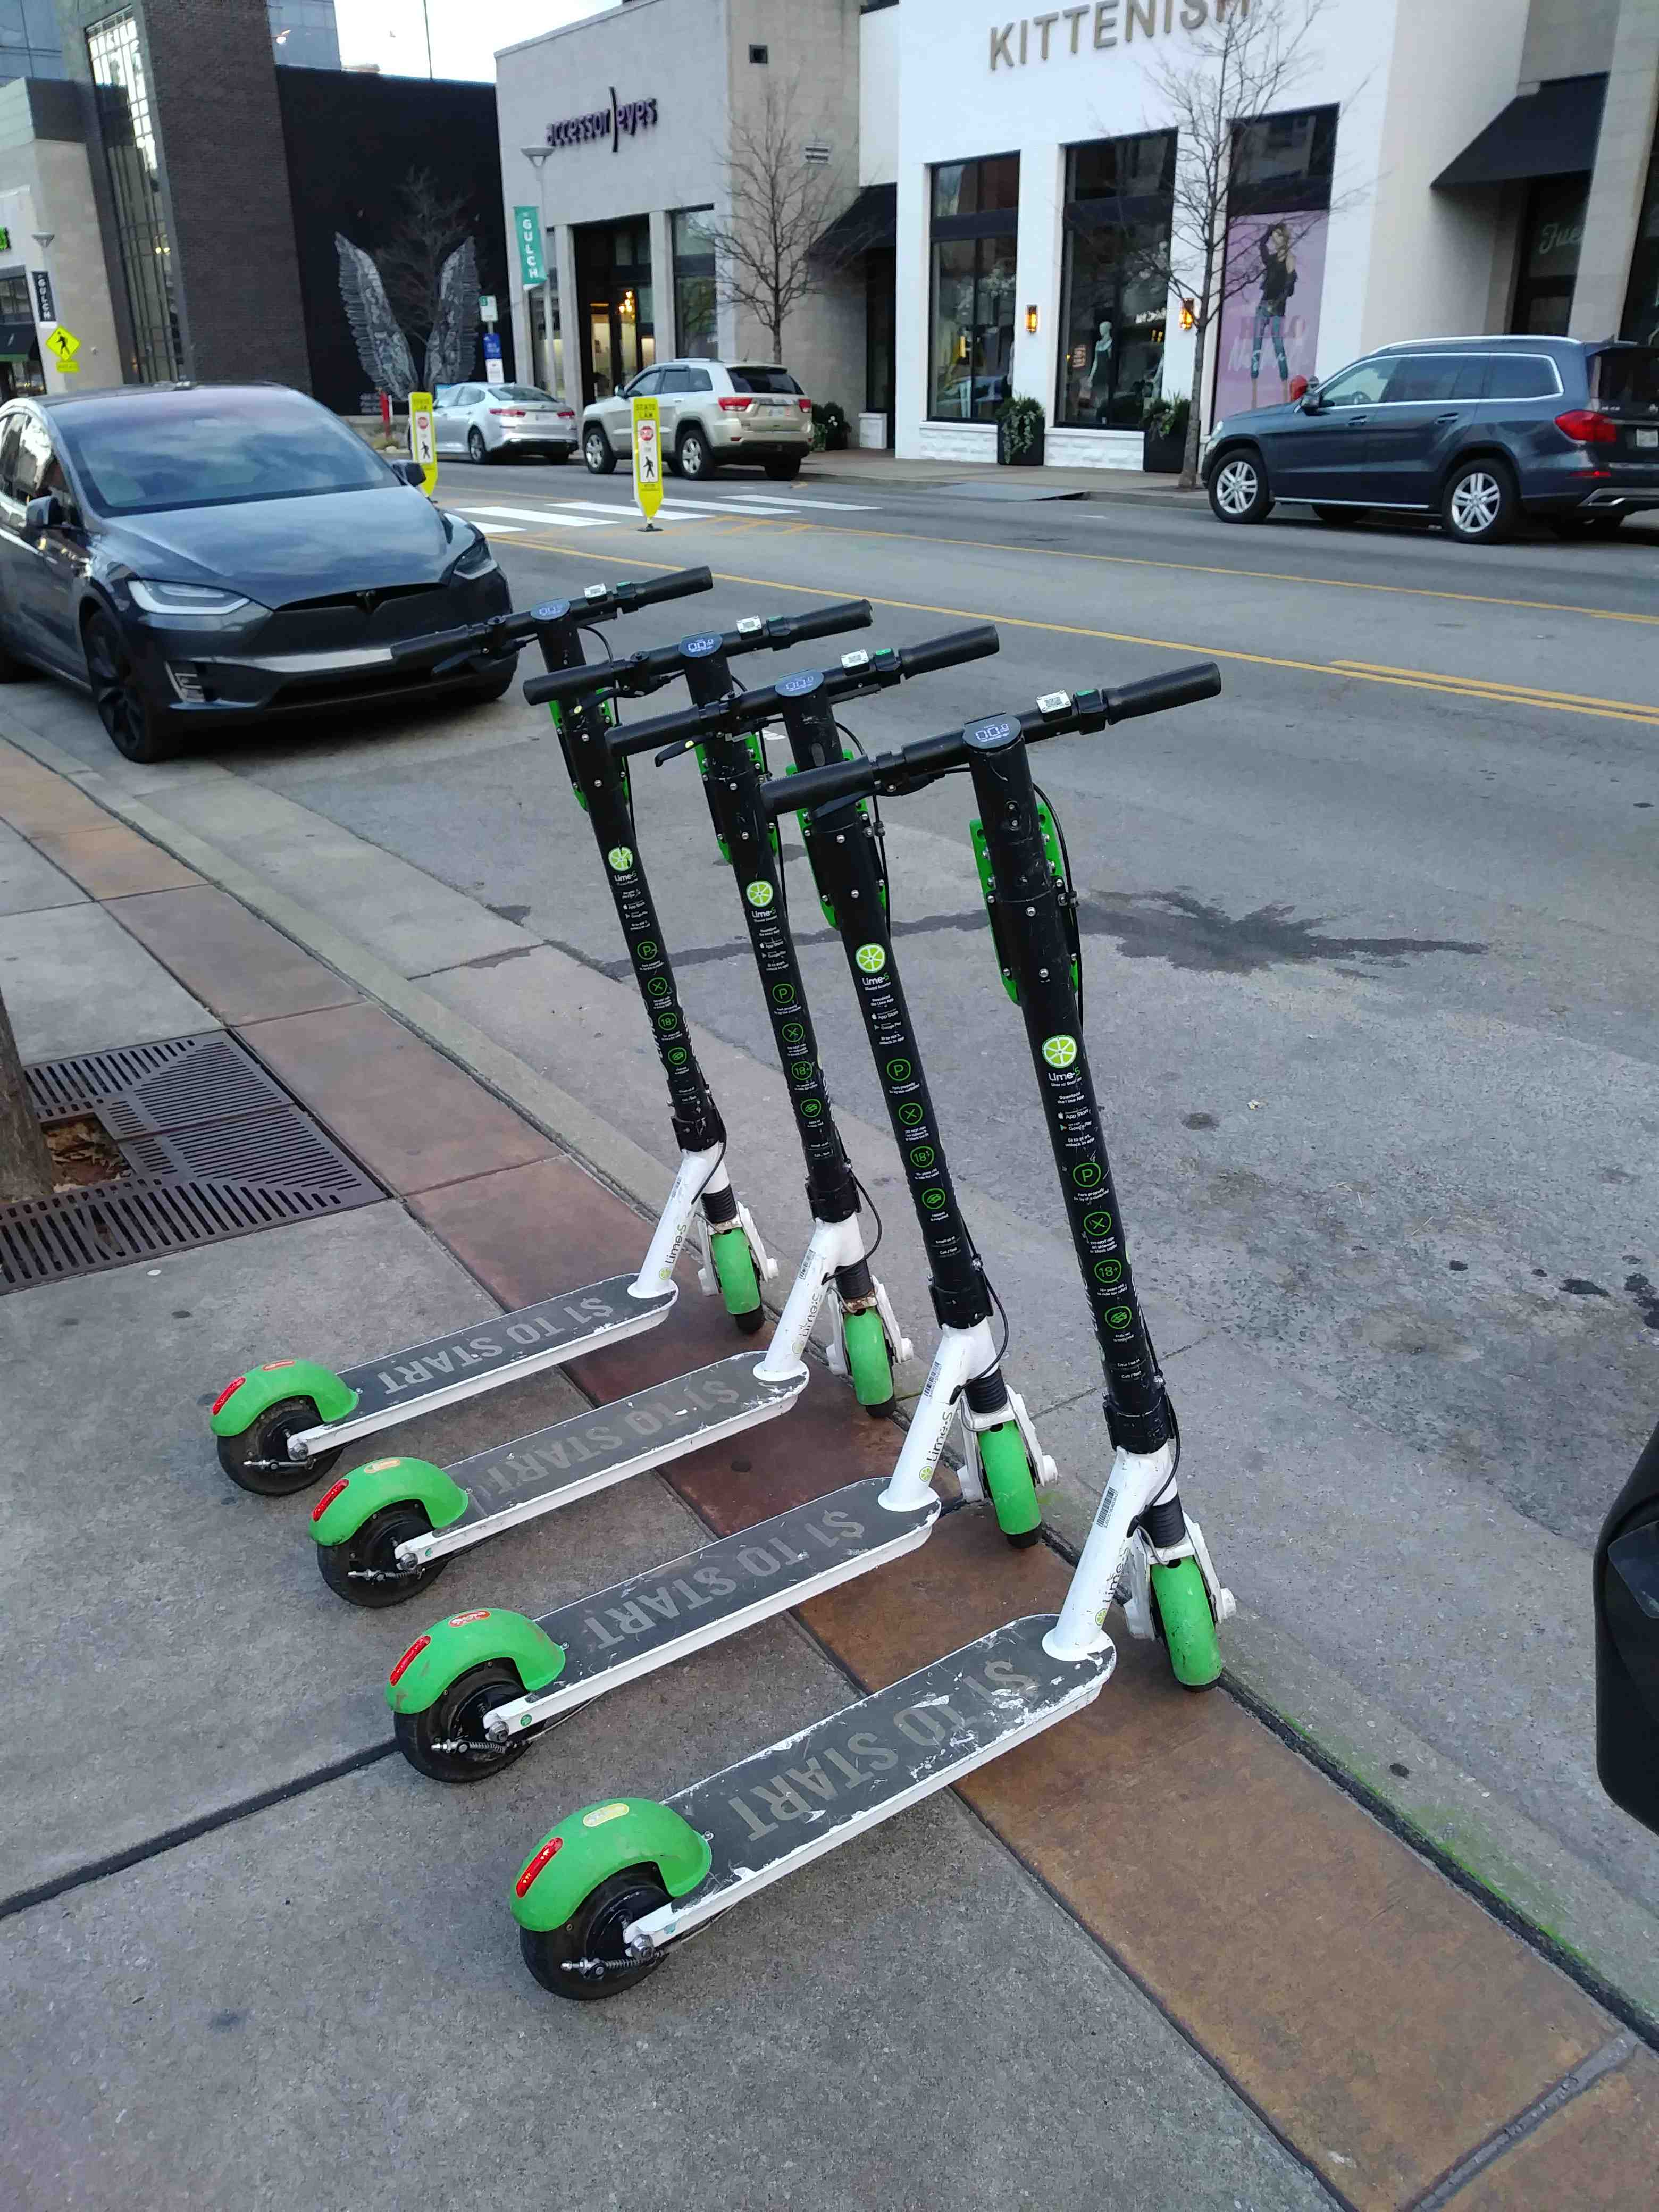too close: (1077, 1494, 1337, 1766), (899, 1343, 1129, 1580), (784, 1231, 955, 1447), (638, 1150, 816, 1352)
